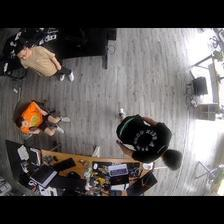normal: (115, 108, 182, 170), (14, 42, 74, 81), (14, 100, 69, 136)
